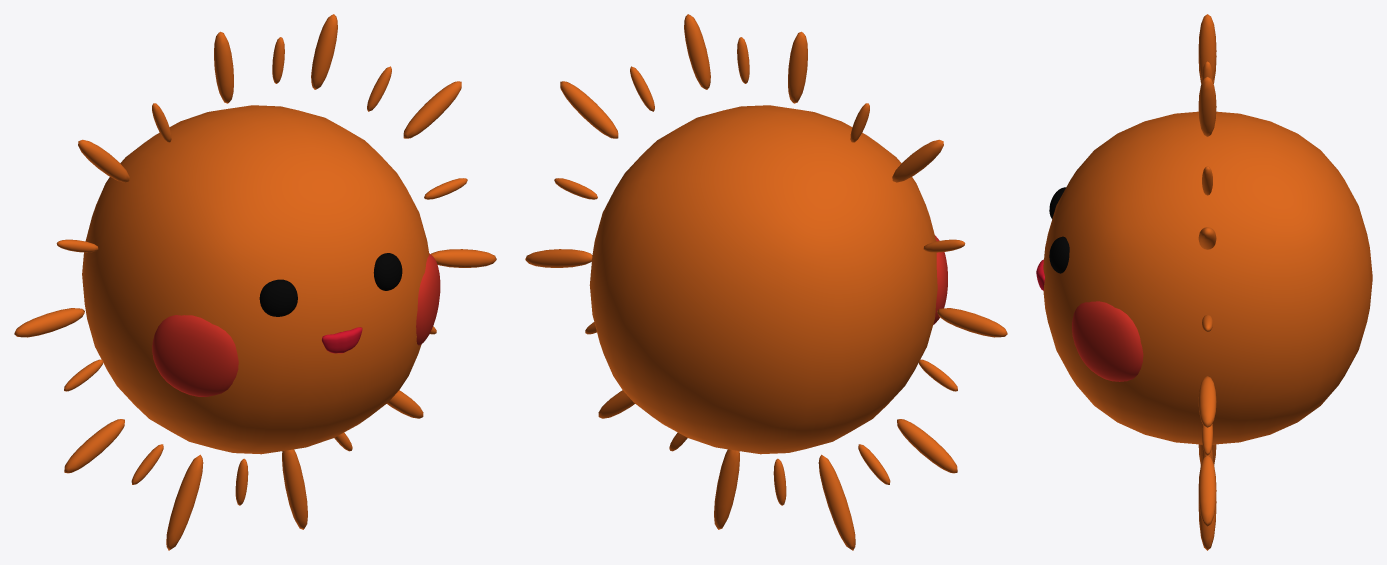
Rendered from Sun.obj.
3 renders of one model, left to right at view 1: azimuth 30°, elevation 25°; view 2: azimuth 150°, elevation 25°; view 3: azimuth 270°, elevation 25°, orthographic. The views are drawn at different scales.
Parts seen in each view (by area): view 1: Sun_Cube, Ray_Cube.013, Blush_Cube.015, Eyes_Cube.016, Mouth_Cube.017; view 2: Sun_Cube, Ray_Cube.013, Blush_Cube.015; view 3: Sun_Cube, Ray_Cube.013, Blush_Cube.015, Eyes_Cube.016.
Boxes of the visible parts, bbox=[...] form: Sun_Cube: bbox=[82, 105, 429, 454]; Ray_Cube.013: bbox=[14, 14, 496, 550]; Blush_Cube.015: bbox=[152, 253, 440, 396]; Eyes_Cube.016: bbox=[259, 253, 402, 316]; Mouth_Cube.017: bbox=[322, 327, 362, 353]; Sun_Cube: bbox=[589, 105, 937, 454]; Ray_Cube.013: bbox=[525, 14, 1007, 550]; Blush_Cube.015: bbox=[933, 235, 947, 324]; Sun_Cube: bbox=[1043, 111, 1372, 444]; Ray_Cube.013: bbox=[1198, 14, 1216, 550]; Blush_Cube.015: bbox=[1072, 301, 1143, 381]; Eyes_Cube.016: bbox=[1049, 187, 1069, 273].
Bounding box in the file's own units: 1.21 × 1.24 × 0.7606.
